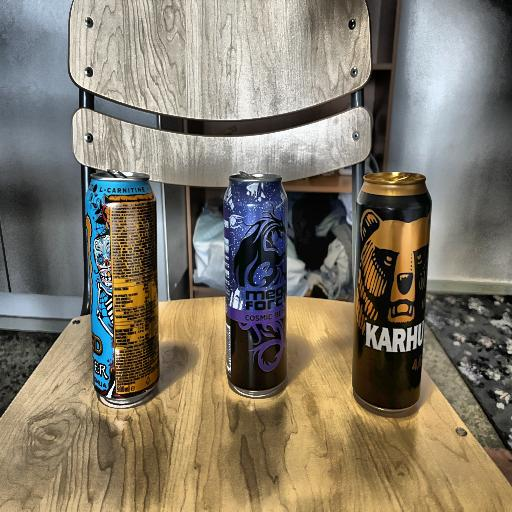karhu: (342, 162, 433, 421)
